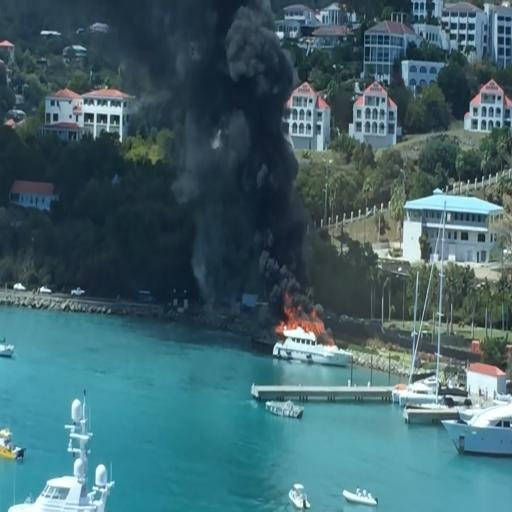smoke: (224, 2, 303, 160), (235, 152, 308, 299)
